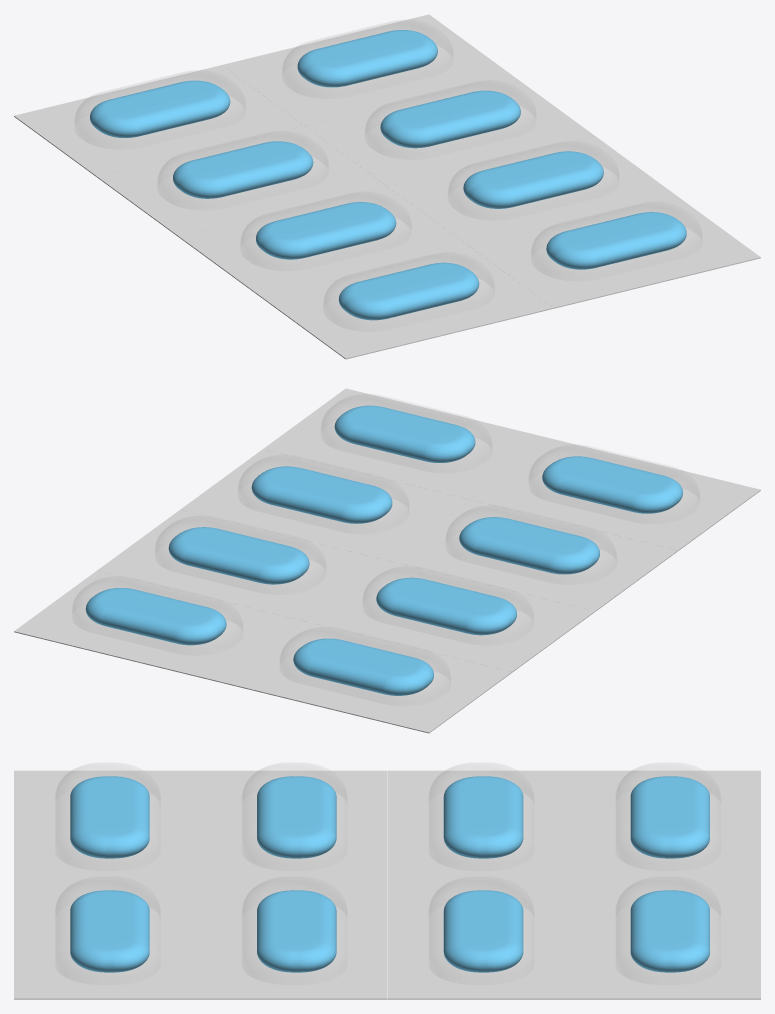
The model's file is Capsule_Pill_2x4_Blue.glb.
3 renders of one model, top to bottom at view 1: azimuth 30°, elevation 25°; view 2: azimuth 150°, elevation 25°; view 3: azimuth 270°, elevation 25°, orthographic. The views are drawn at different scales.
Parts seen in each view (by area): view 1: Capsule_Pill_Base_2x4, Capsule_Pill_2x4, Capsule_Pill_Lid_2x4, Capsule_Pill_Shell_2x4; view 2: Capsule_Pill_Base_2x4, Capsule_Pill_2x4, Capsule_Pill_Lid_2x4, Capsule_Pill_Shell_2x4; view 3: Capsule_Pill_Base_2x4, Capsule_Pill_2x4, Capsule_Pill_Lid_2x4, Capsule_Pill_Shell_2x4.
Part boxes in pixels (x1,y1,x2,y2): Capsule_Pill_Base_2x4: (14, 14, 760, 359); Capsule_Pill_2x4: (90, 30, 686, 320); Capsule_Pill_Lid_2x4: (74, 45, 702, 331); Capsule_Pill_Shell_2x4: (75, 20, 701, 307); Capsule_Pill_Base_2x4: (14, 388, 760, 733); Capsule_Pill_2x4: (85, 405, 682, 695); Capsule_Pill_Lid_2x4: (72, 420, 700, 706); Capsule_Pill_Shell_2x4: (72, 394, 699, 681); Capsule_Pill_Base_2x4: (14, 770, 760, 999); Capsule_Pill_2x4: (70, 776, 709, 972); Capsule_Pill_Lid_2x4: (55, 790, 721, 985); Capsule_Pill_Shell_2x4: (55, 763, 720, 918).
Size of the model in its own units: 6.8 by 0.4666 by 9.41.
